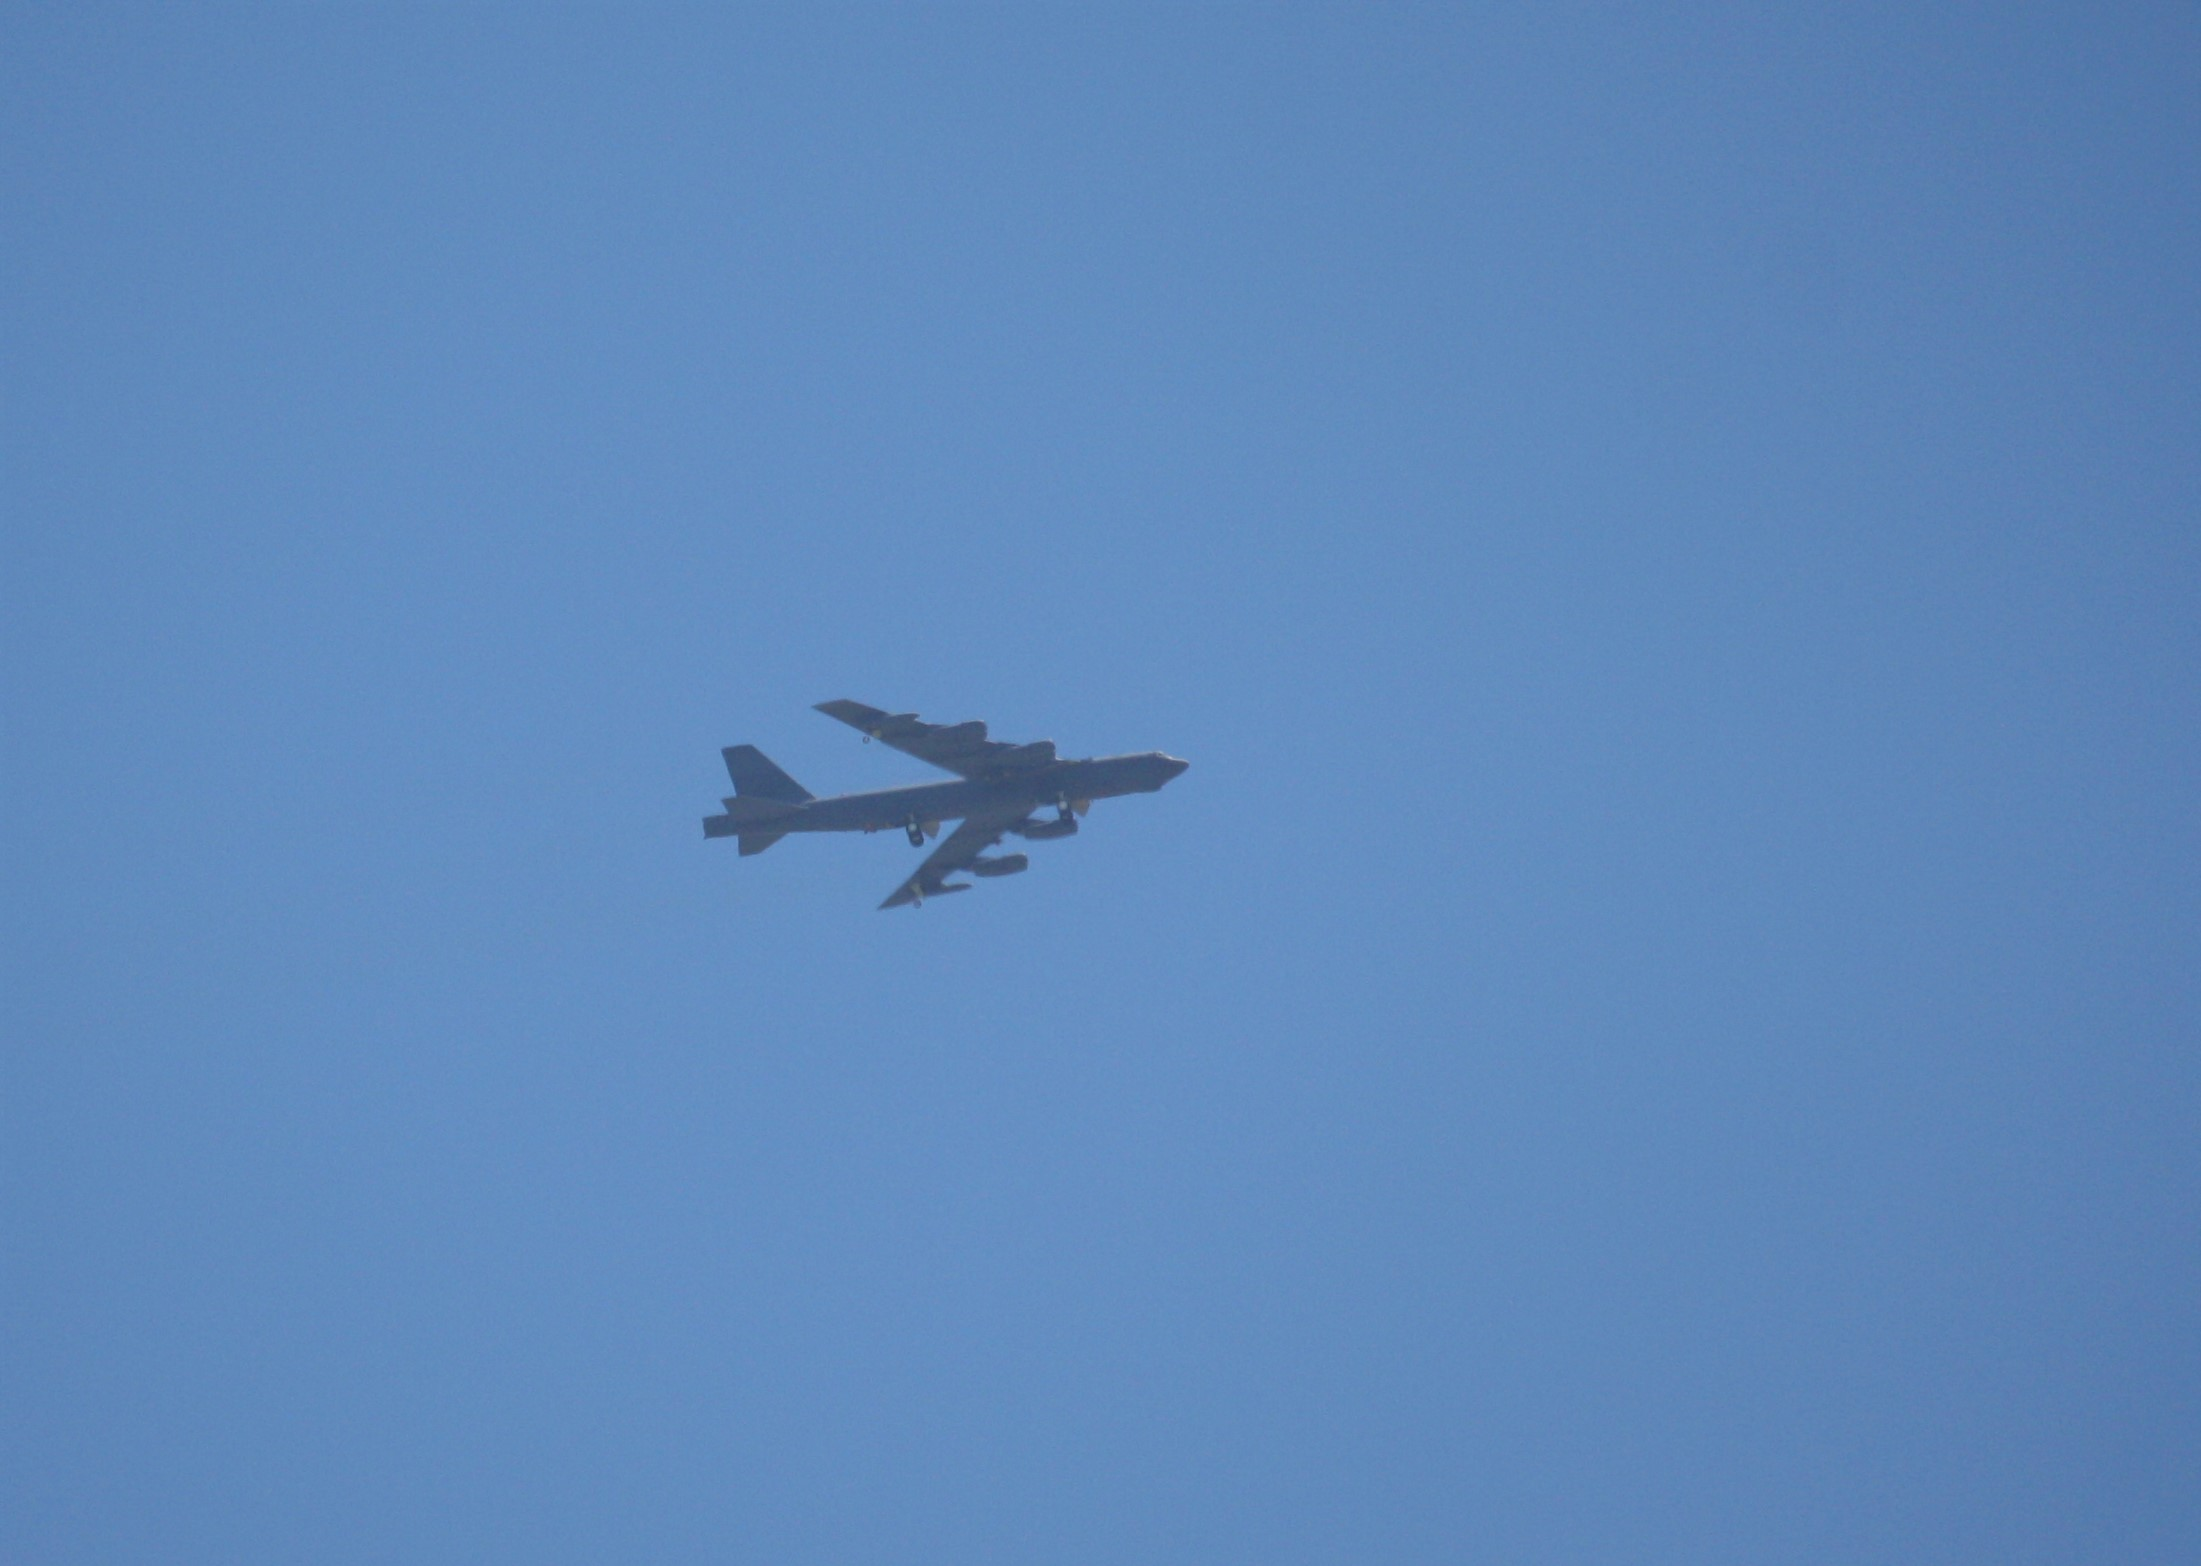B52: (701, 698, 1189, 912)
